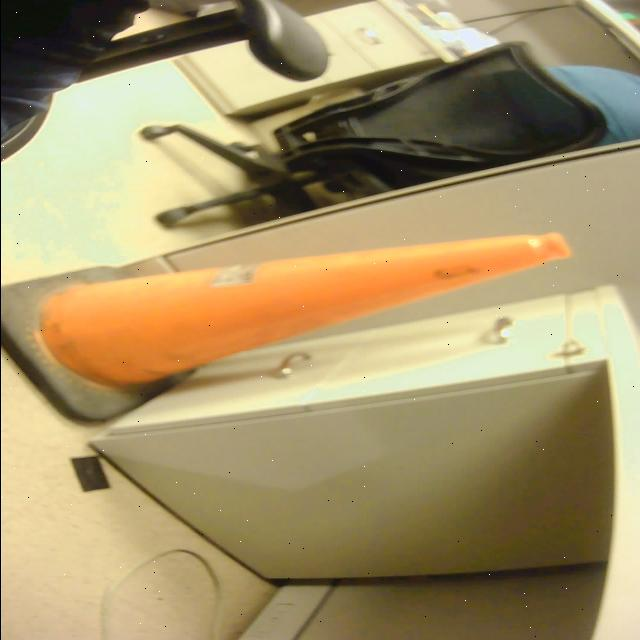traffic cone: (1, 225, 575, 434)
